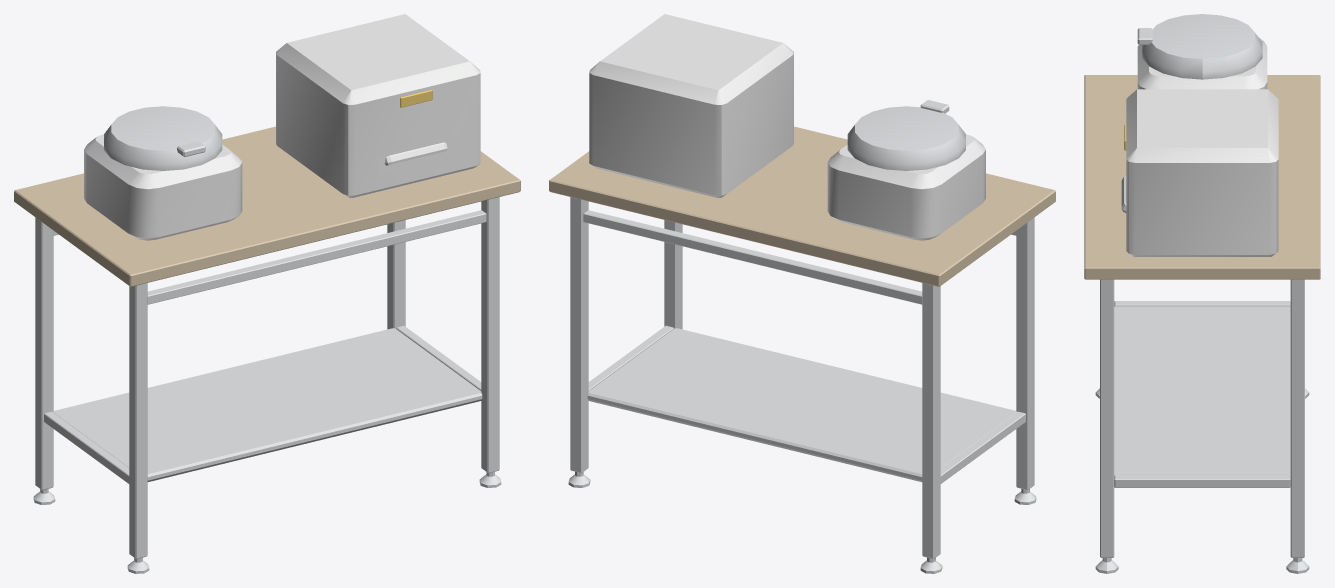
The model's file is clinic-and-veterinary-practice-centrifuge-analyser-ben-23a84b65__16802.glb.
The picture shows the model from 3 angles, left to right: view 1: azimuth 30°, elevation 25°; view 2: azimuth 150°, elevation 25°; view 3: azimuth 270°, elevation 25°; orthographic projection.
Parts seen in each view (by area): view 1: centrifuge-analyser-bench, centrifuge-lid, sample-drawer; view 2: centrifuge-analyser-bench, centrifuge-lid; view 3: centrifuge-analyser-bench, centrifuge-lid.
Boxes of the visible parts, box(x1,y1,x2,y2) form: centrifuge-analyser-bench: box(14, 14, 520, 573); centrifuge-lid: box(104, 106, 222, 170); sample-drawer: box(378, 140, 453, 176); centrifuge-analyser-bench: box(549, 14, 1055, 573); centrifuge-lid: box(847, 100, 965, 170); centrifuge-analyser-bench: box(1084, 37, 1320, 573); centrifuge-lid: box(1137, 14, 1262, 79).
Bounding box in the file's own units: 1.2 × 1.21 × 0.62.
